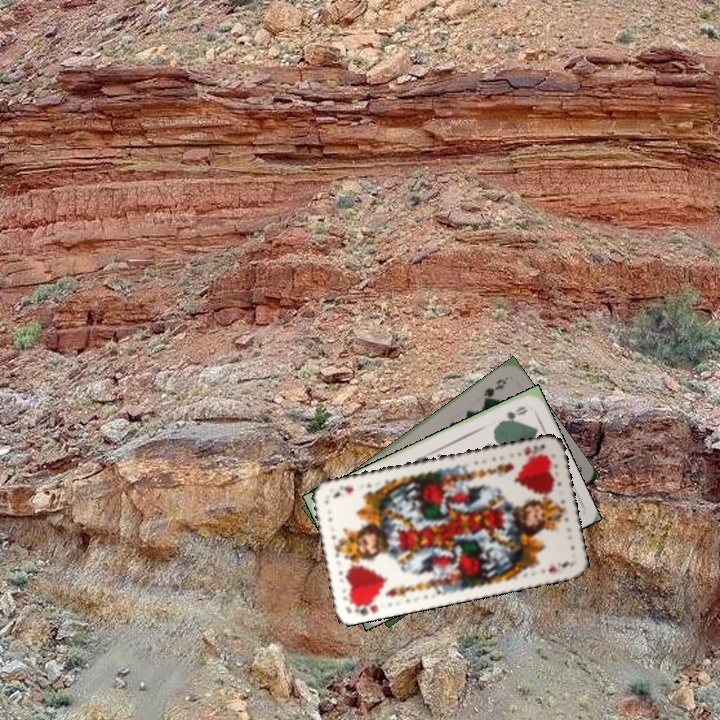G9: (479, 374, 510, 404)
GO: (494, 402, 530, 428)
HK: (347, 595, 381, 618), (520, 440, 549, 459)
